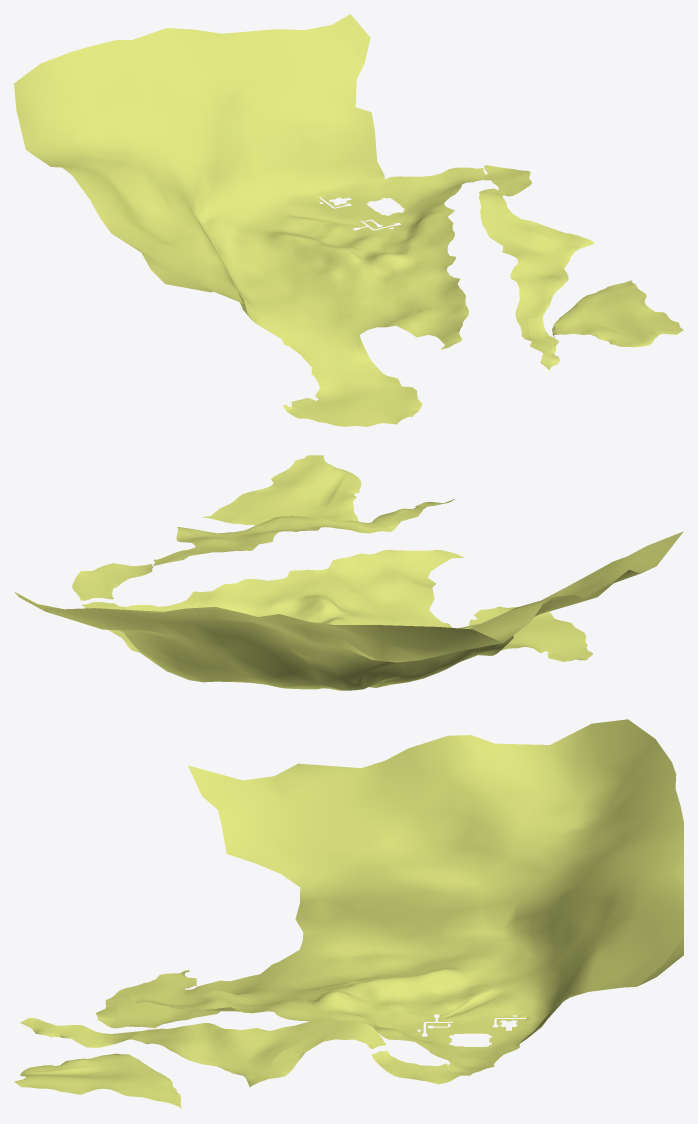
File: cluster_11.fbx
3 renders of one model, top to bottom at view 1: azimuth 30°, elevation 25°; view 2: azimuth 150°, elevation 25°; view 3: azimuth 270°, elevation 25°, orthographic. The views are drawn at different scales.
Visible parts, largest first — view 1: cluster_11; view 2: cluster_11; view 3: cluster_11.
Boxes of the visible parts, <box> form: cluster_11: <box>14,14,683,426</box>; cluster_11: <box>15,455,683,690</box>; cluster_11: <box>14,719,683,1108</box>.
Bounding box in the file's own units: 1940423 × 830961 × 2295076.
